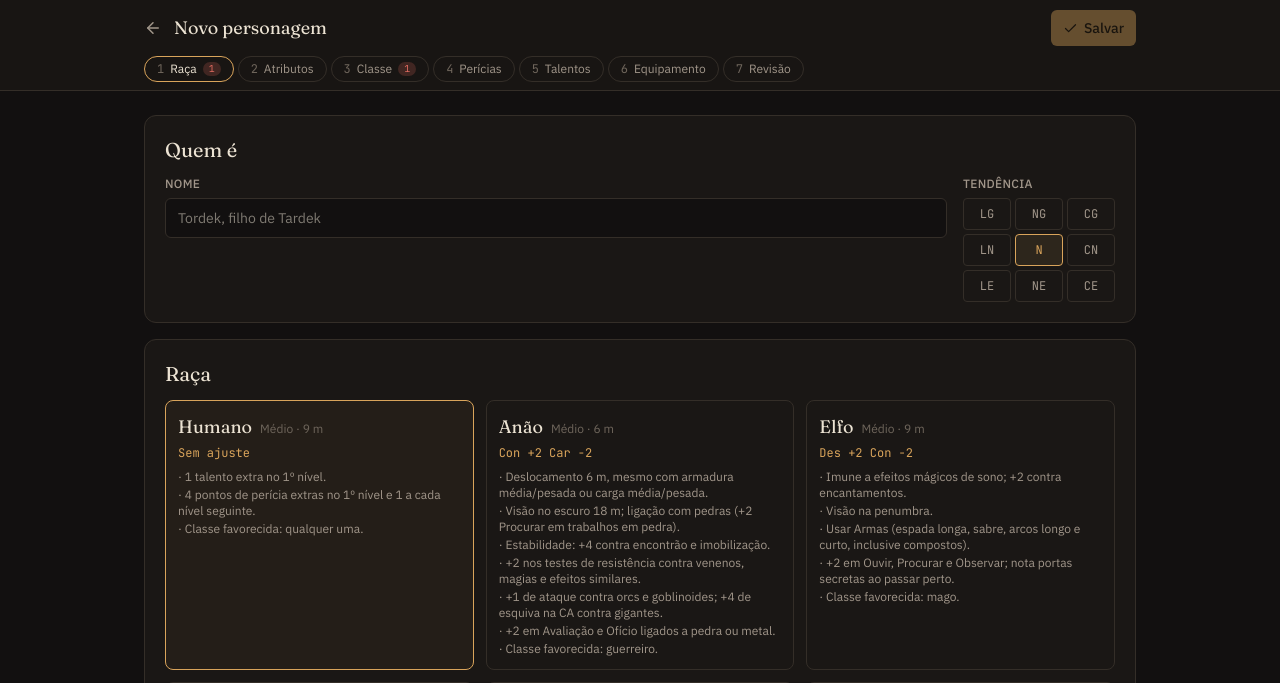
Test: CharacterWizard › ficha nova para no nível inicial e PV dos níveis novos não se digitam
This screenshot has width=1280, height=683.
Click the button "3 Classe 1" at {"x": 380, "y": 69}, box [331, 56, 429, 82]
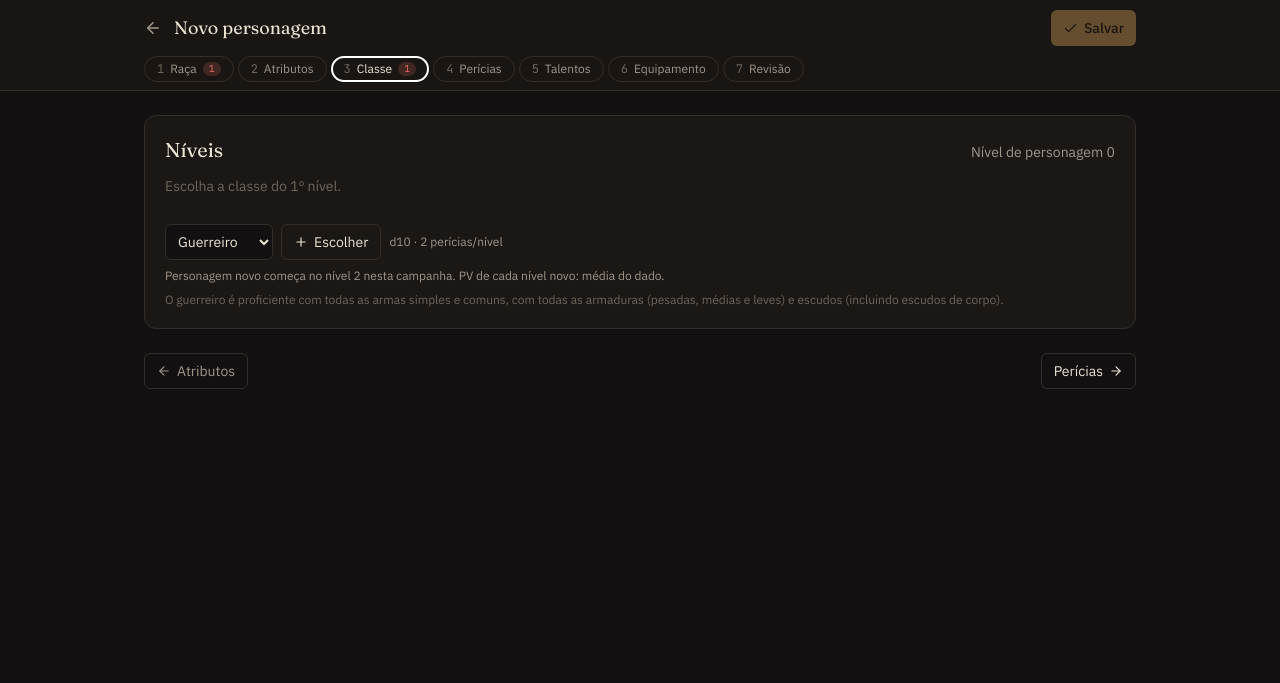
Click the button "Escolher" at {"x": 331, "y": 242}, box [281, 224, 381, 260]
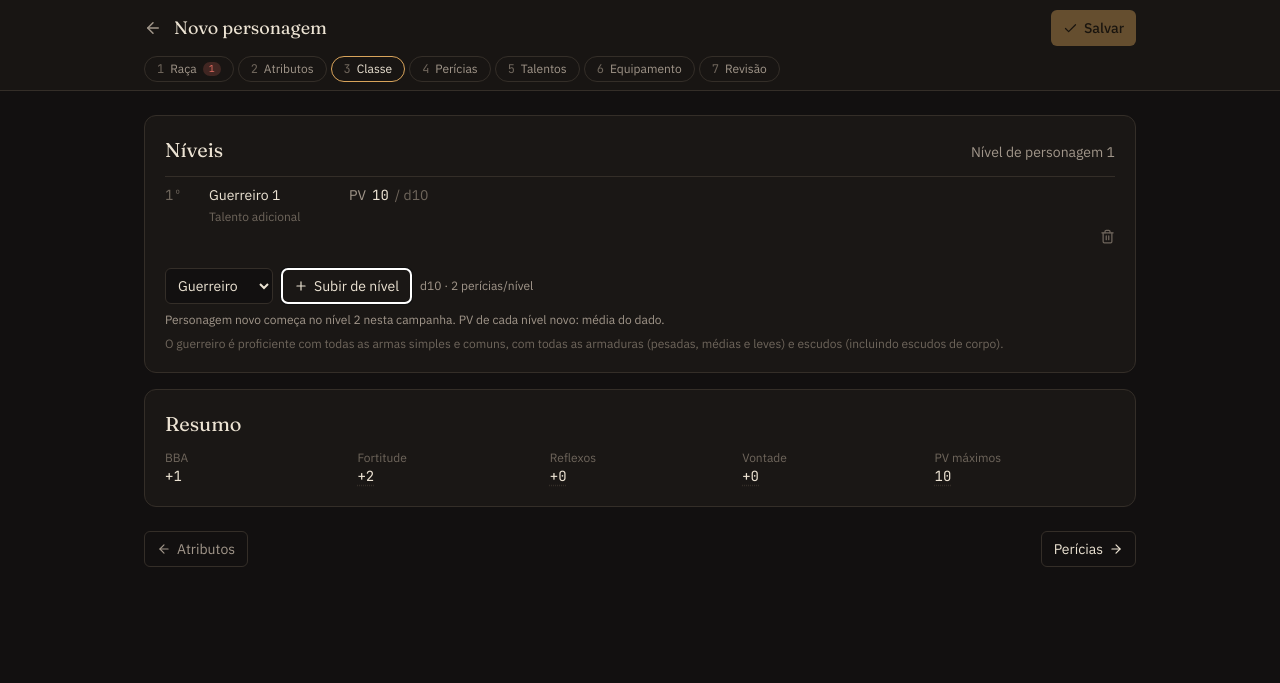
Click the button "Subir de nível" at {"x": 346, "y": 286}, box [281, 268, 412, 304]
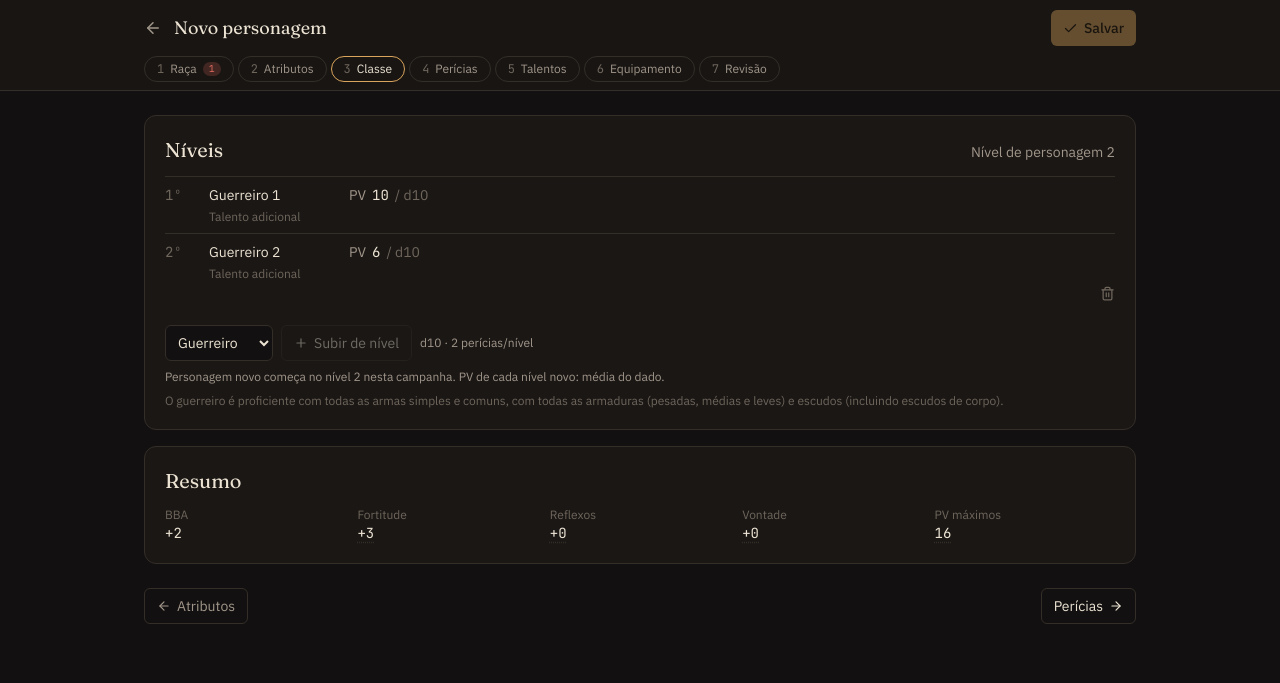
Expected: the text "começa no nível 2" is shown, [165, 369, 459, 384]
Expected: the button "Subir de nível" is disabled, [281, 325, 412, 361]
